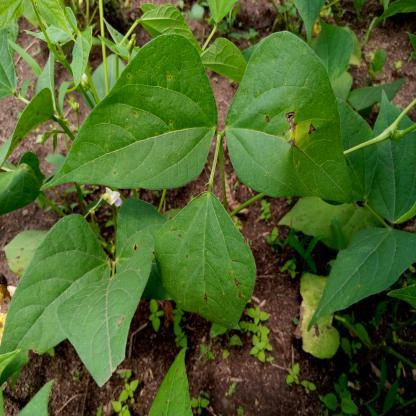Beans_Angular_LeafSpot: (44, 50, 202, 186), (238, 39, 348, 204), (64, 207, 162, 372), (158, 215, 258, 338)
